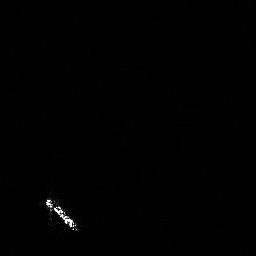ship: (41, 194, 82, 235)
